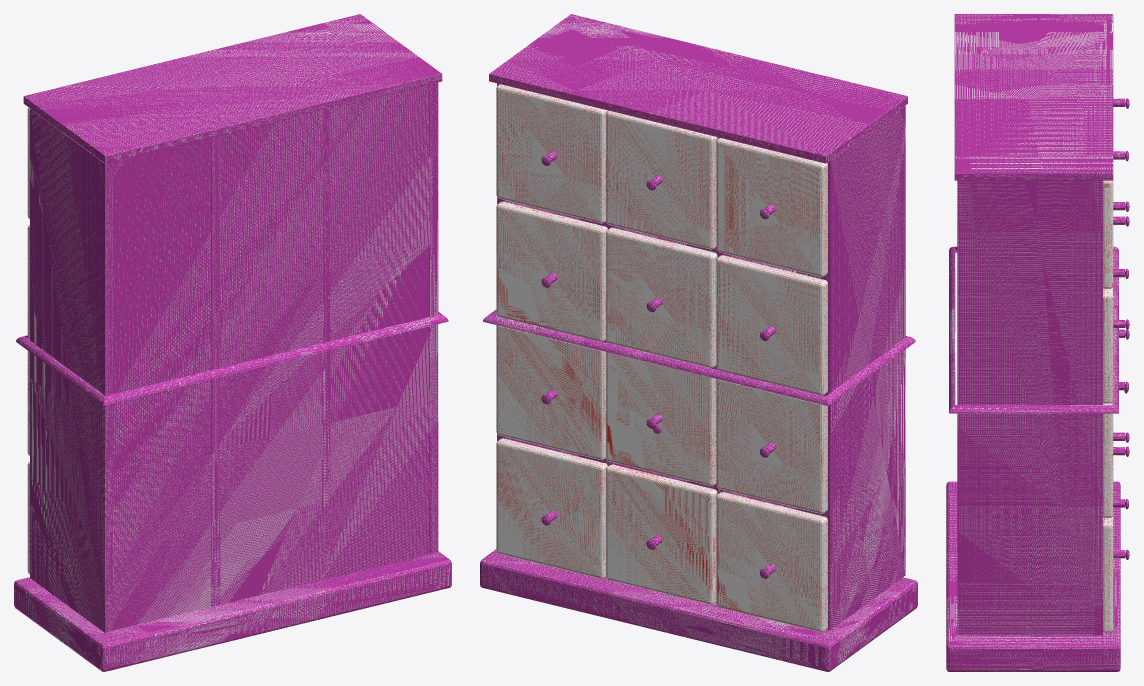
3 renders of one model, left to right at view 1: azimuth 30°, elevation 25°; view 2: azimuth 150°, elevation 25°; view 3: azimuth 270°, elevation 25°, orthographic. The views are drawn at different scales.
Parts seen in each view (by area): view 1: mesh82_mesh82-geometry, mesh86_mesh86-geometry, mesh60_mesh60-geometry, mesh64_mesh64-geometry, mesh83_mesh83-geometry, mesh85_mesh85-geometry, mesh77_mesh77-geometry, mesh84_mesh84-geometry, mesh65_mesh65-geometry; view 2: mesh65_mesh65-geometry, mesh86_mesh86-geometry, mesh60_mesh60-geometry, mesh64_mesh64-geometry, mesh77_mesh77-geometry, mesh2_mesh2-geometry, mesh1_mesh1-geometry; view 3: mesh83_mesh83-geometry, mesh60_mesh60-geometry, mesh64_mesh64-geometry, mesh65_mesh65-geometry, mesh77_mesh77-geometry, mesh1_mesh1-geometry, mesh2_mesh2-geometry.
Boxes of the visible parts, x1,y1,x2,y2 form: mesh82_mesh82-geometry: [113, 84, 432, 630]; mesh86_mesh86-geometry: [30, 108, 113, 632]; mesh60_mesh60-geometry: [23, 14, 442, 163]; mesh64_mesh64-geometry: [14, 551, 451, 671]; mesh83_mesh83-geometry: [429, 82, 438, 553]; mesh85_mesh85-geometry: [211, 135, 220, 606]; mesh77_mesh77-geometry: [16, 312, 448, 405]; mesh84_mesh84-geometry: [322, 109, 330, 579]; mesh65_mesh65-geometry: [27, 107, 29, 574]; mesh65_mesh65-geometry: [496, 84, 827, 632]; mesh86_mesh86-geometry: [822, 106, 905, 630]; mesh60_mesh60-geometry: [489, 14, 907, 163]; mesh64_mesh64-geometry: [480, 549, 917, 671]; mesh77_mesh77-geometry: [482, 309, 915, 405]; mesh2_mesh2-geometry: [541, 156, 769, 578]; mesh1_mesh1-geometry: [545, 151, 775, 574]; mesh83_mesh83-geometry: [957, 180, 1102, 635]; mesh60_mesh60-geometry: [954, 14, 1113, 180]; mesh64_mesh64-geometry: [946, 481, 1120, 671]; mesh65_mesh65-geometry: [1103, 180, 1113, 632]; mesh77_mesh77-geometry: [949, 246, 1118, 413]; mesh1_mesh1-geometry: [1113, 98, 1125, 558]; mesh2_mesh2-geometry: [1125, 98, 1129, 559].
Size of the model in its own units: 0.5612 by 0.785 by 0.2622.
